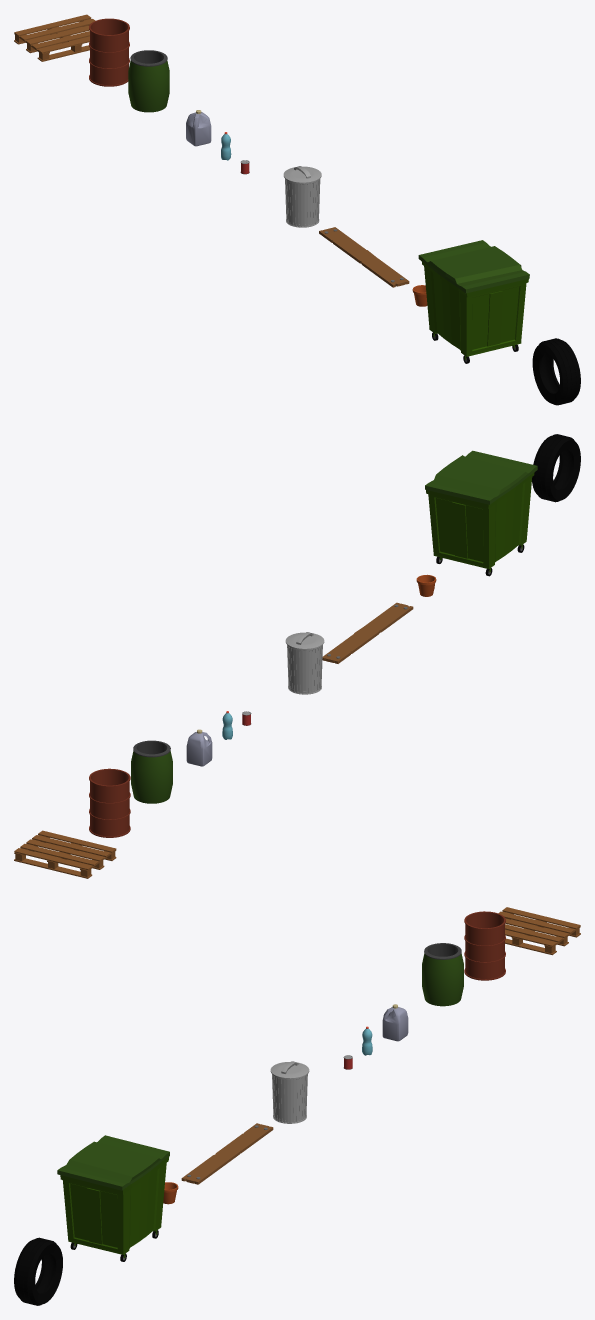
File: props.fbx
3 views of the same model, one above another, from view 1: azimuth 30°, elevation 25°; view 2: azimuth 150°, elevation 25°; view 3: azimuth 330°, elevation 25° (orthographic).
Visible parts, largest first — view 1: Cube.004, Cube.005, Cylinder, Cylinder.007, Cylinder.001, Cube.002, Cylinder.004, Cube.003, Cube, Cylinder.005; view 2: Cube.004, Cube.005, Cube.002, Cylinder, Cylinder.007, Cylinder.001, Cylinder.004, Cube.003, Cube; view 3: Cube.004, Cube.005, Cylinder, Cylinder.007, Cylinder.001, Cube.002, Cylinder.004, Cube.003, Cube, Cylinder.005.
Boxes of the visible parts, x1,y1,x2,y2 form: Cube.004: [421, 261, 528, 363]; Cube.005: [418, 240, 529, 293]; Cylinder: [89, 18, 129, 86]; Cylinder.007: [532, 338, 580, 405]; Cylinder.001: [128, 50, 169, 112]; Cube.002: [14, 14, 95, 61]; Cylinder.004: [285, 179, 320, 227]; Cube.003: [319, 227, 409, 287]; Cube: [186, 110, 211, 146]; Cylinder.005: [283, 166, 321, 183]; Cube.004: [426, 472, 534, 576]; Cube.005: [425, 450, 537, 504]; Cube.002: [14, 830, 116, 878]; Cylinder: [89, 768, 130, 837]; Cylinder.007: [532, 434, 580, 502]; Cylinder.001: [131, 740, 172, 803]; Cylinder.004: [287, 645, 322, 694]; Cube.003: [322, 602, 413, 663]; Cube: [186, 729, 212, 766]; Cube.004: [60, 1156, 169, 1261]; Cube.005: [57, 1135, 169, 1190]; Cylinder: [464, 911, 505, 980]; Cylinder.007: [14, 1237, 62, 1305]; Cylinder.001: [422, 943, 463, 1006]; Cube.002: [498, 907, 580, 955]; Cylinder.004: [272, 1074, 307, 1123]; Cube.003: [181, 1123, 273, 1184]; Cube: [382, 1004, 408, 1041]; Cylinder.005: [270, 1061, 309, 1078].
Bounding box in the file's own units: 1945 × 2171 × 24000.
